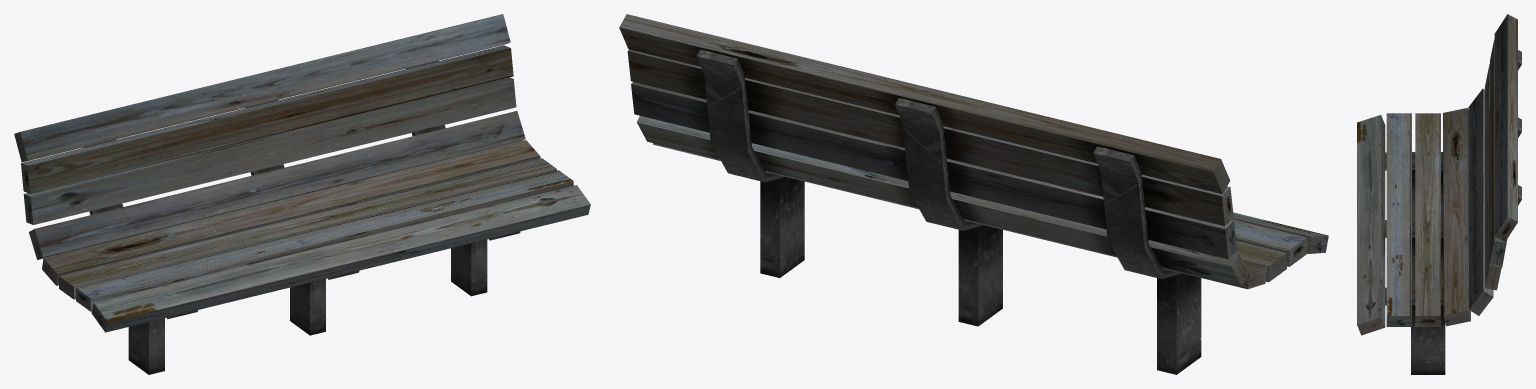
The model's file is outdoor_bench.dae.
3 views of the same model, side by side, from view 1: azimuth 30°, elevation 25°; view 2: azimuth 150°, elevation 25°; view 3: azimuth 270°, elevation 25° (orthographic). The views are drawn at different scales.
Visible parts, largest first — view 1: polySurface39; view 2: polySurface39; view 3: polySurface39.
Boxes of the visible parts, x1,y1,x2,y2 form: polySurface39: (14, 14, 590, 374); polySurface39: (619, 14, 1328, 374); polySurface39: (1357, 14, 1521, 374).
Bounding box in the file's own units: 3 × 1.3 × 1.03.
